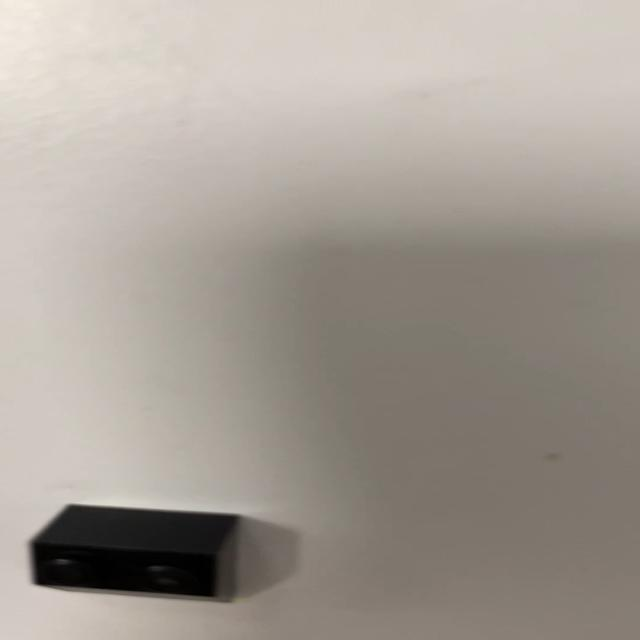P2x2x1: (29, 502, 242, 603)
